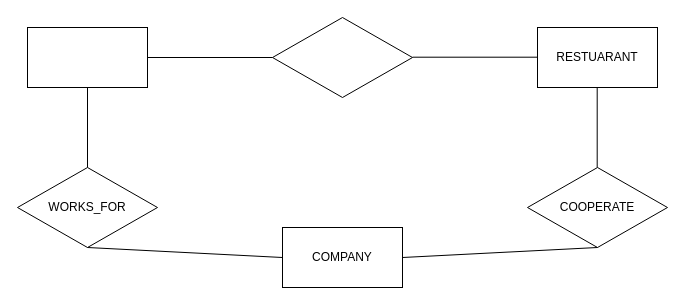
Some shapes in this 685 by 305 pixel diagram are drawn without their labels. The centre of each missing label's shape, as x and y in pixels:
EMPLOYEE: (x=87, y=57)
ORDERS: (x=342, y=57)
